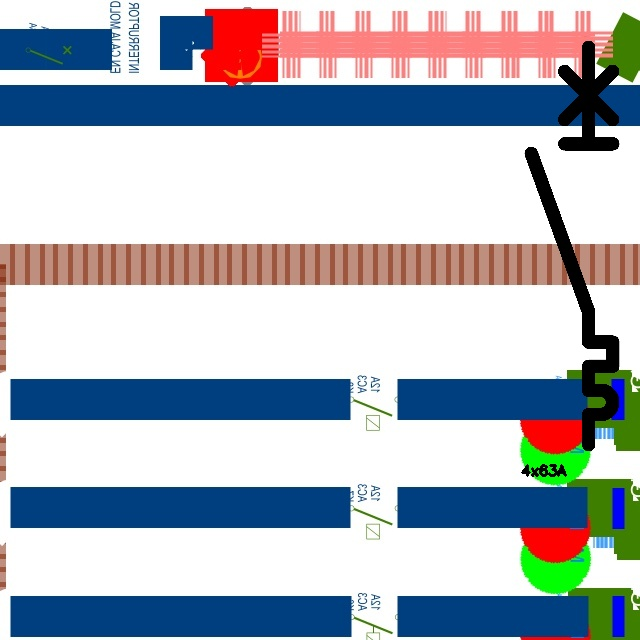interruptor_termomagnetico: (521, 37, 623, 455)
